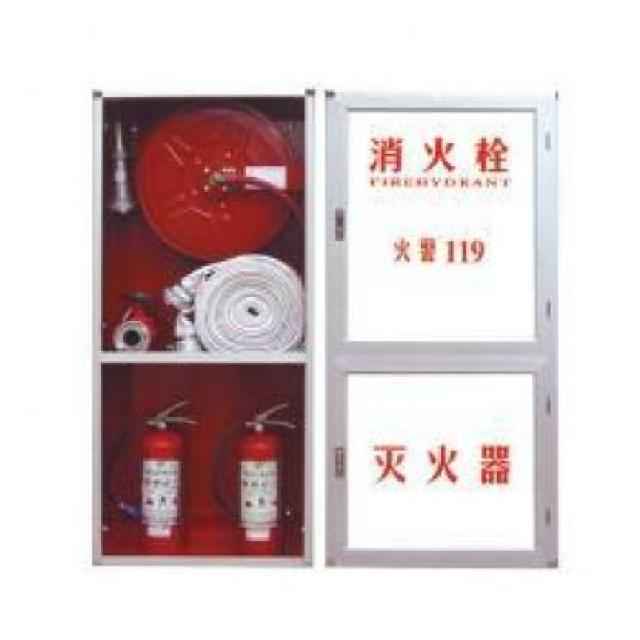firehydrant: (317, 83, 564, 569), (86, 83, 319, 572)
